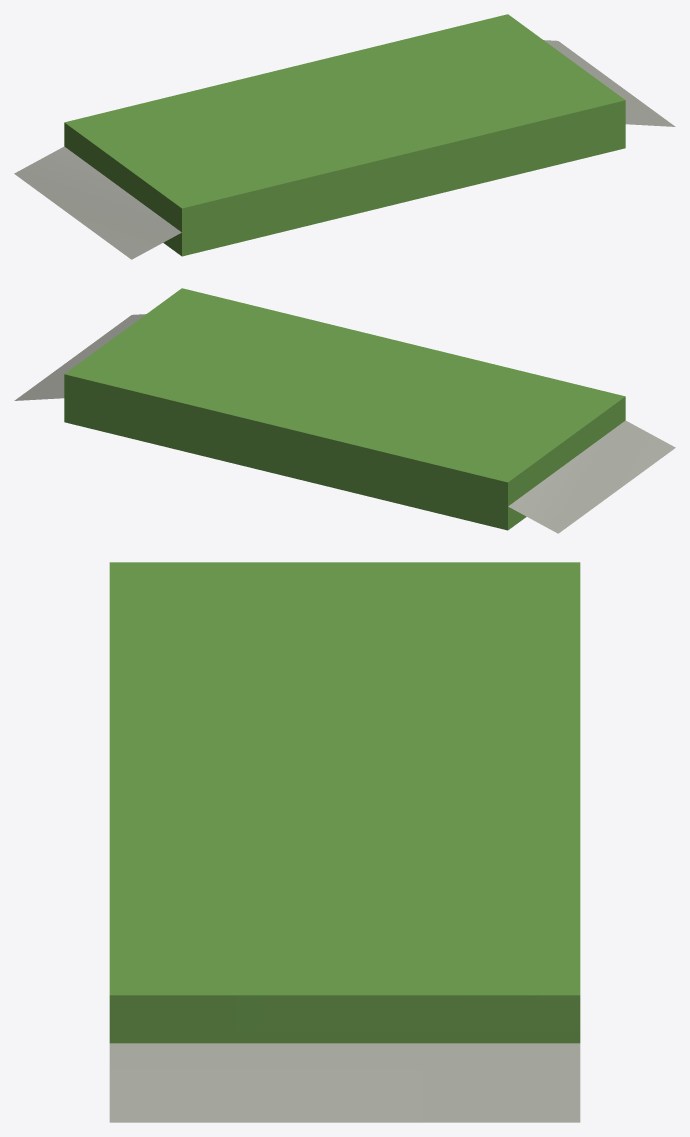
The model's file is Chocolate.fbx.
3 views of the same model, one above another, from view 1: azimuth 30°, elevation 25°; view 2: azimuth 150°, elevation 25°; view 3: azimuth 270°, elevation 25° (orthographic). The views are drawn at different scales.
Parts seen in each view (by area): view 1: Cube; view 2: Cube; view 3: Cube.
Part boxes in pixels (x1,y1,x2,y2): Cube: [14, 14, 675, 259]; Cube: [14, 288, 675, 533]; Cube: [109, 562, 580, 1122].
Size of the model in its own units: 534 by 45.04 by 200.
